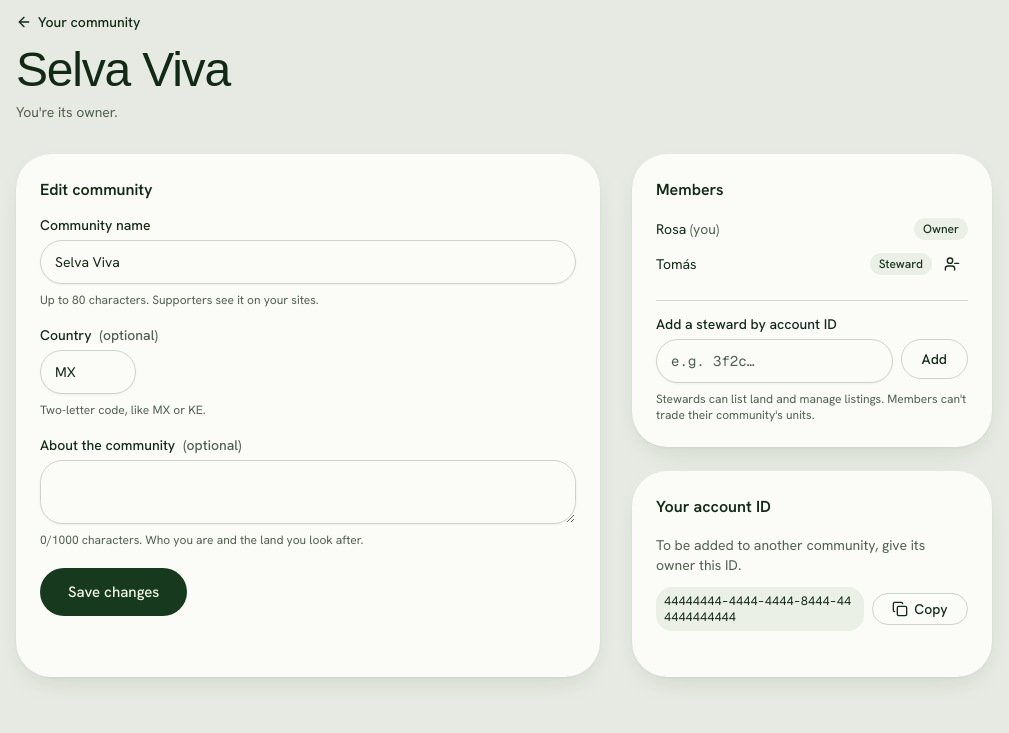
Test case: community settings › adds a steward by account ID and explains a refusal
Step 1. Type "not-an-id" into the field labelled "Add a steward by account ID" → (774, 361), box [656,339,893,383]
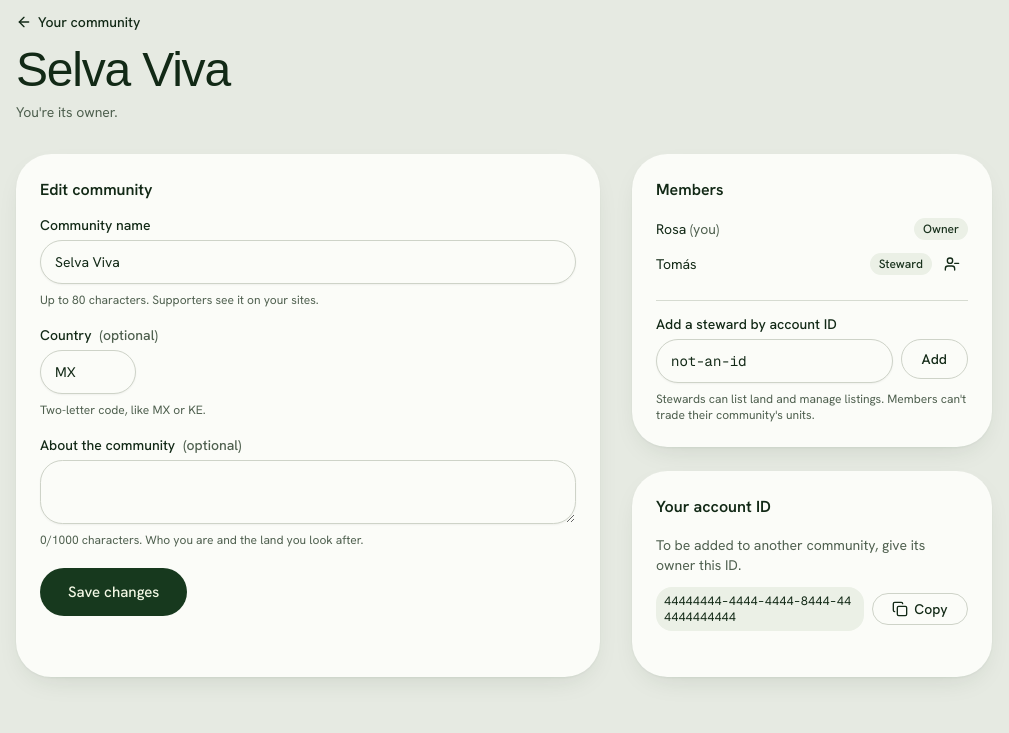
Step 2. Click the button "Add" → (934, 359), box [901,339,968,379]
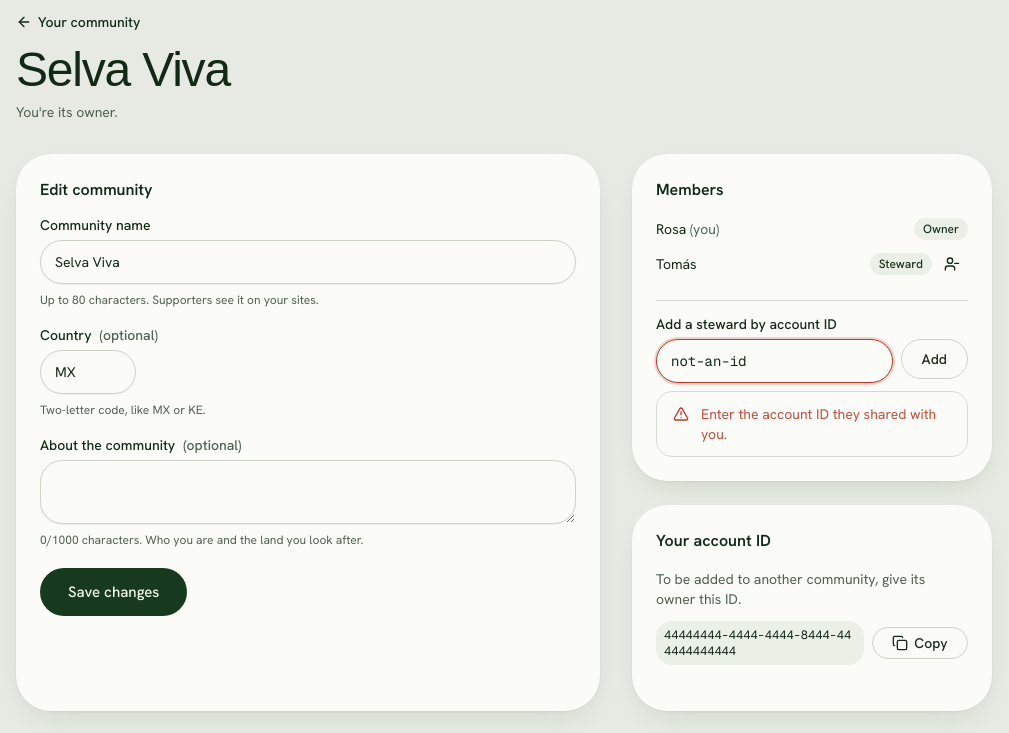
Now the message reads "Enter the account ID they shared with you.", box [701,405,936,443]
Step 3. Replace the text in the field labelled "Add a steward by account ID" with "12345678-1234-4234-8234-123456789012" → (774, 361), box [656,339,893,383]
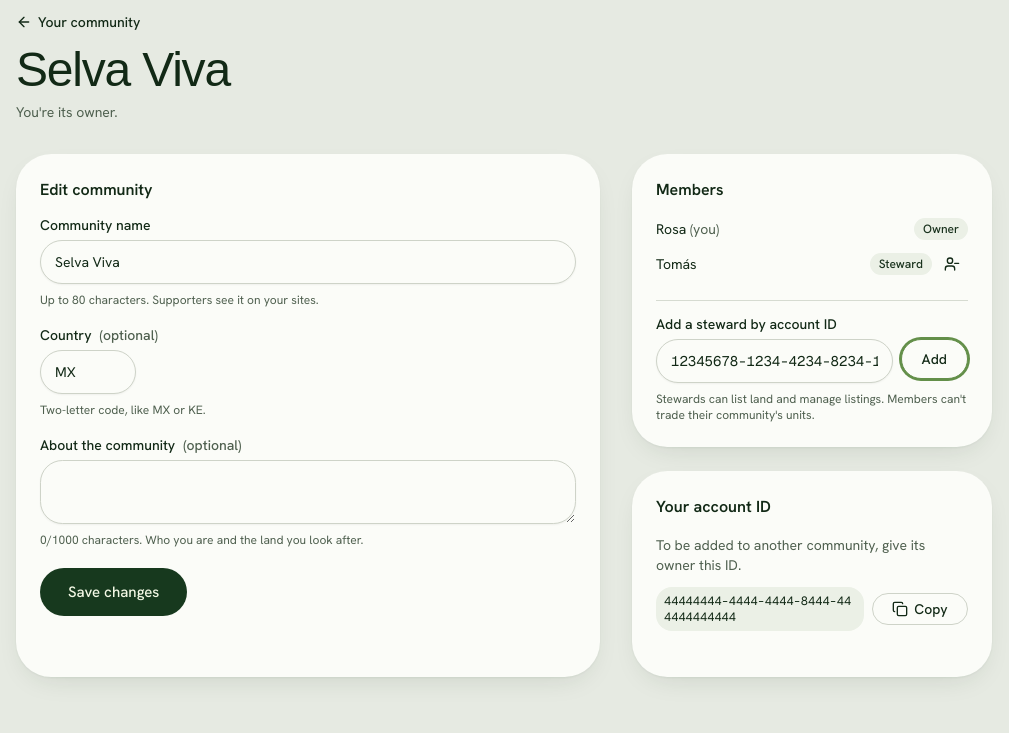
Step 4. Click the button "Add" → (934, 359), box [901,339,968,379]
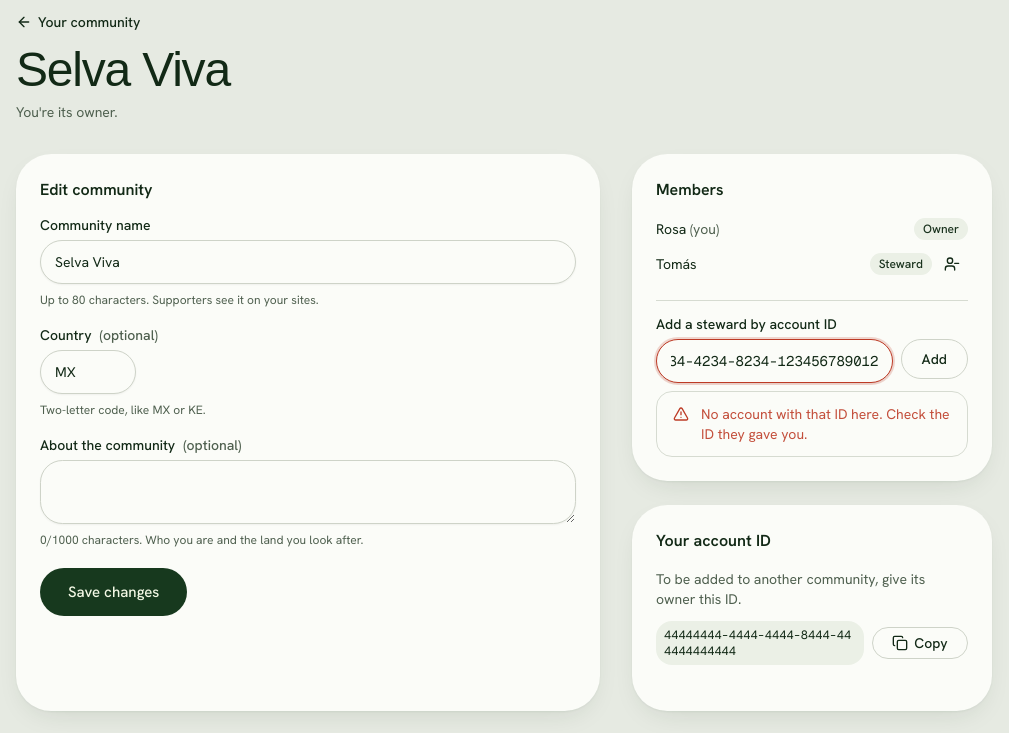
Now the message shows "No account", box [701,405,950,443]
Step 5. Replace the text in the field labelled "Add a steward by account ID" with "77777777-7777-4777-8777-777777777777" → (774, 361), box [656,339,893,383]
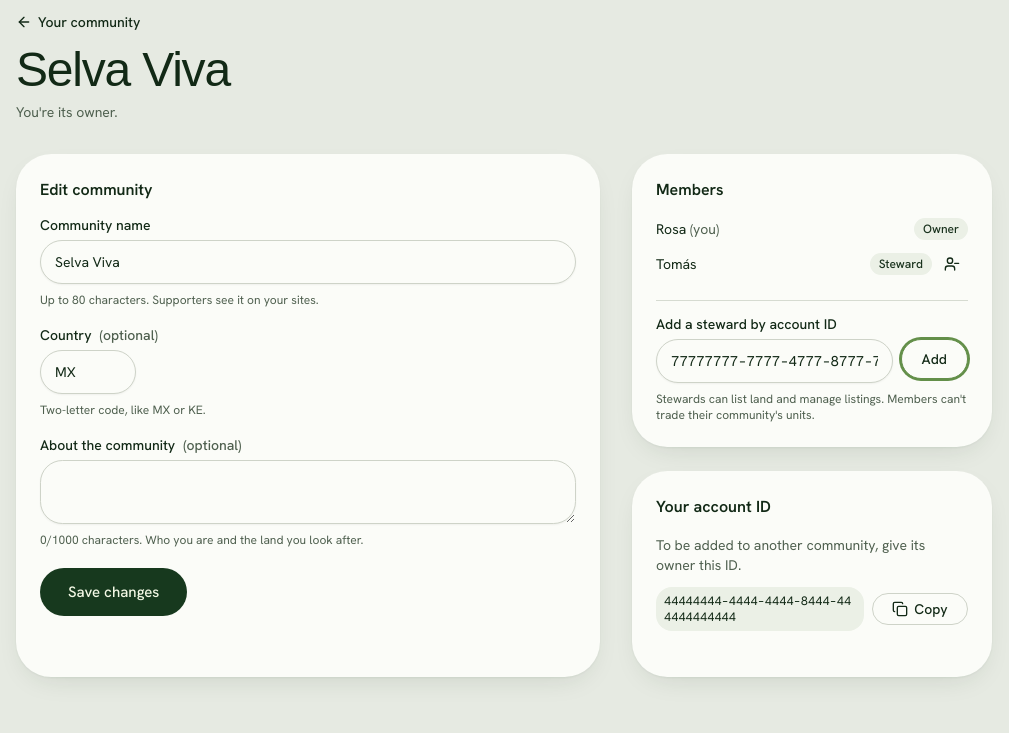
Step 6. Click the button "Add" → (934, 359), box [901,339,968,379]
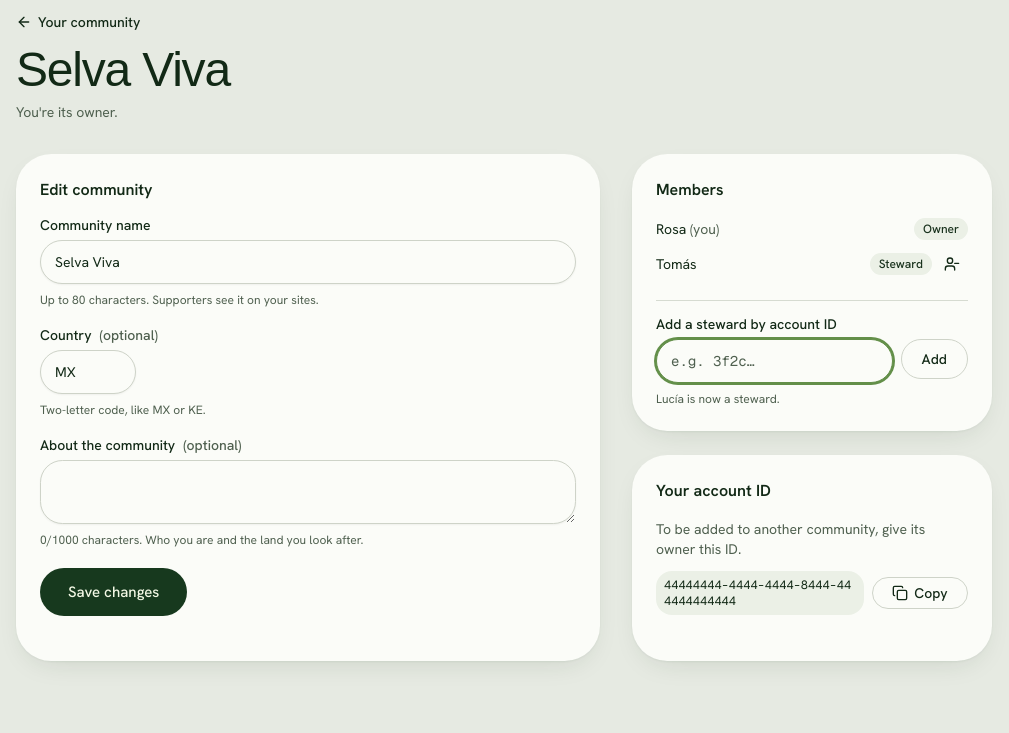
Now the text "Lucía is now a steward." is shown, box [656,391,780,407]
